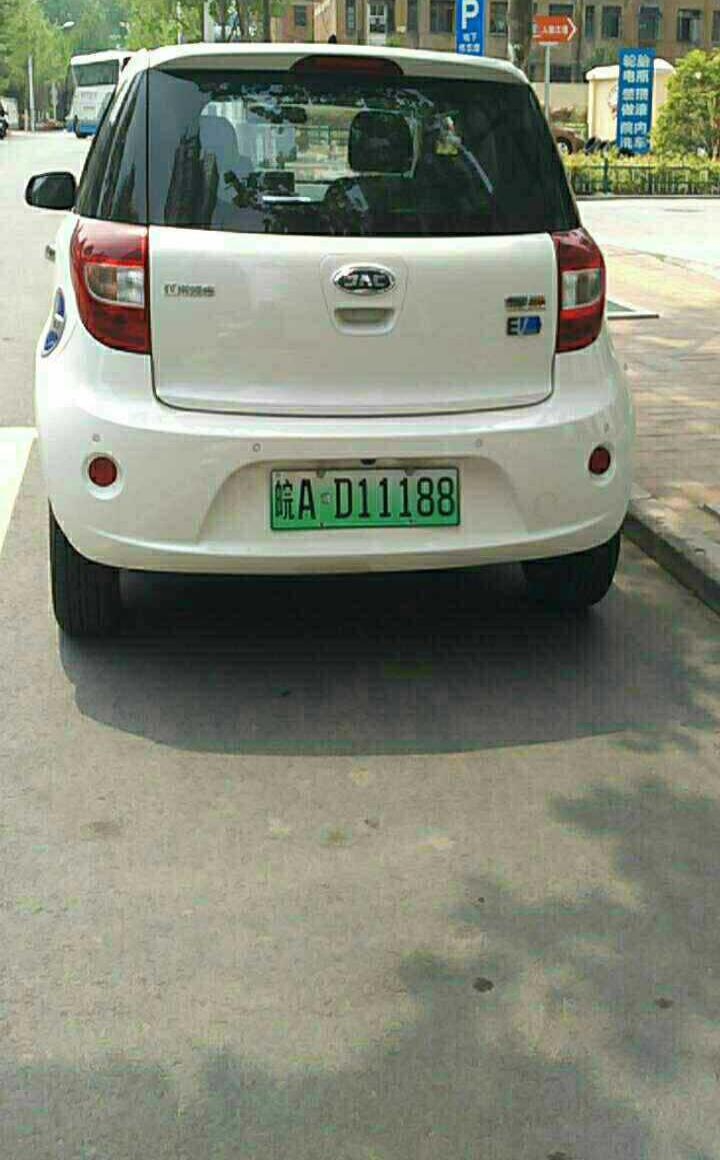car: (268, 466, 463, 528)
